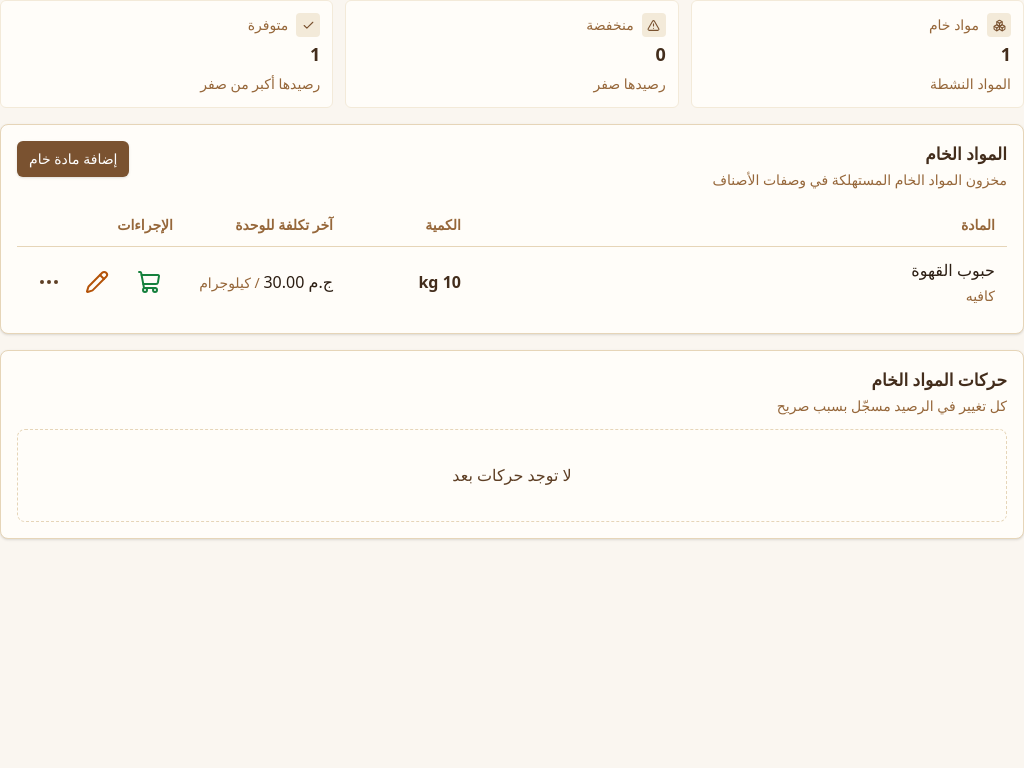
Raw Materials — row actions match the Customers table › archives the material and moves it into the archived workspace
Expected: the text "حبوب القهوة" is shown, [911,259,995,281]
Click the button named "المزيد من الإجراءات" at (49, 282), box [29,262,69,302]
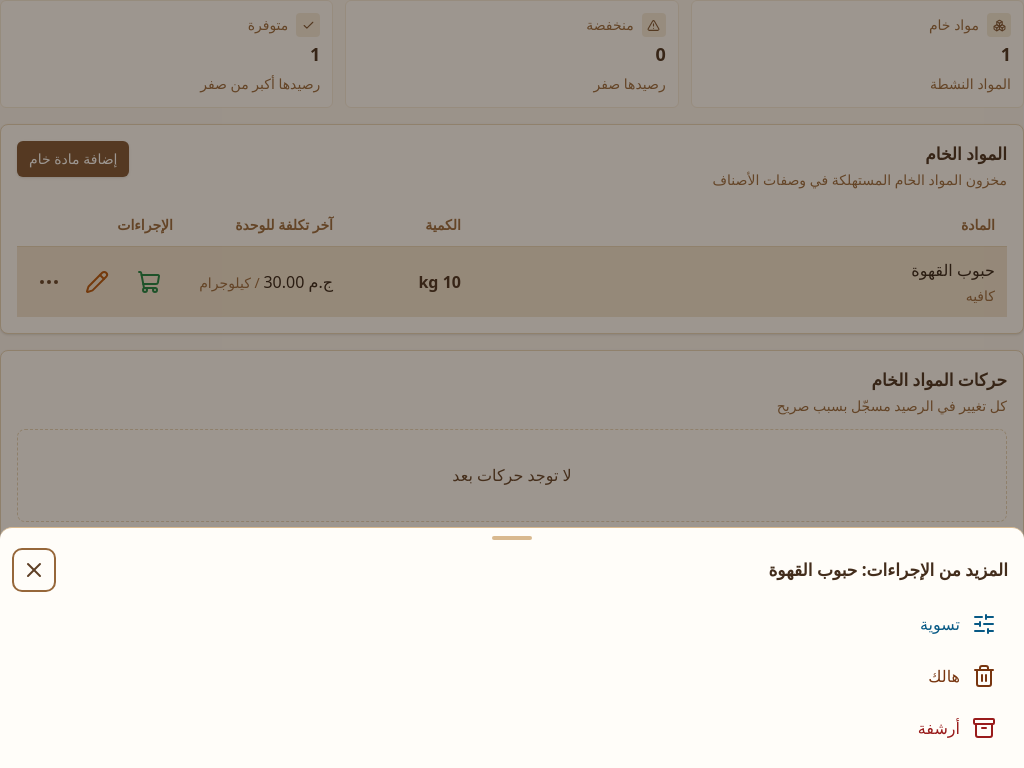
Click the button "أرشفة" at (939, 728), box [16,704,1008,752]
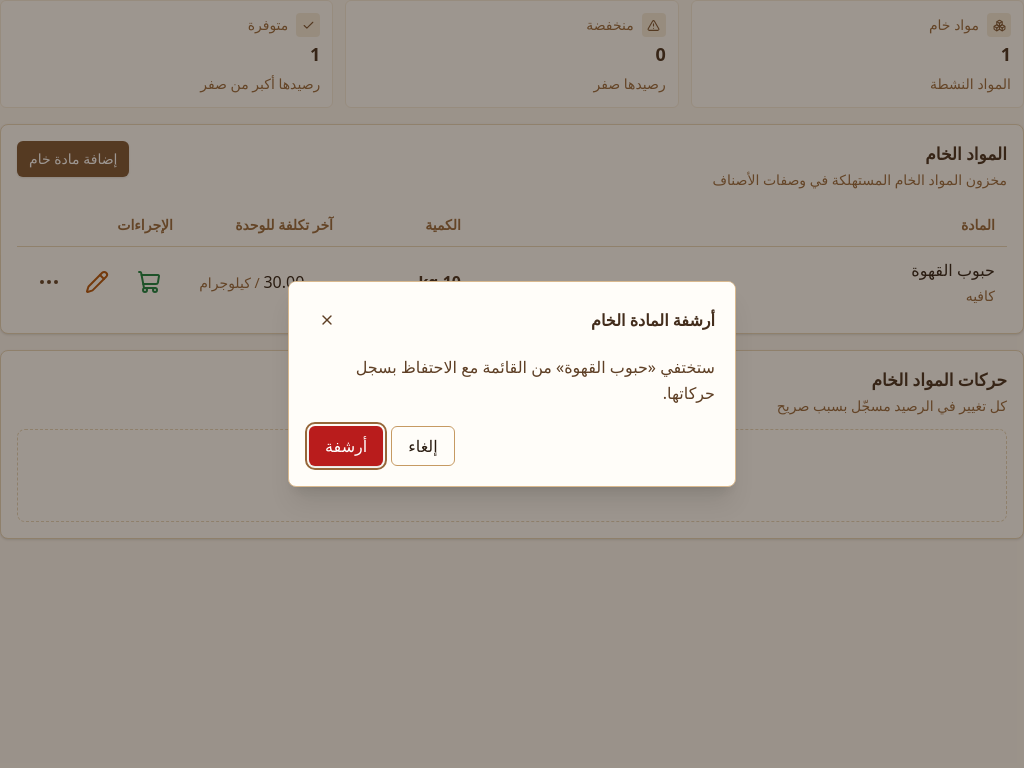
Click the button "أرشفة" at (346, 446), box [309,426,383,466]
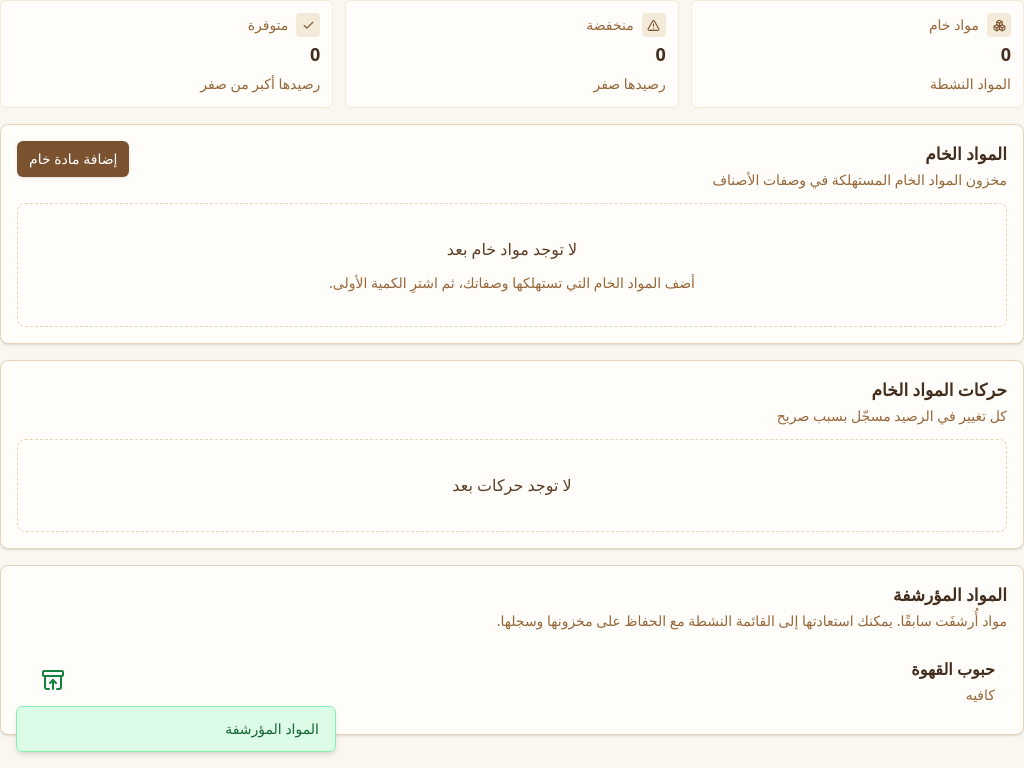
Now the button named "استعادة حبوب القهوة" is shown, box [29,656,77,704]
